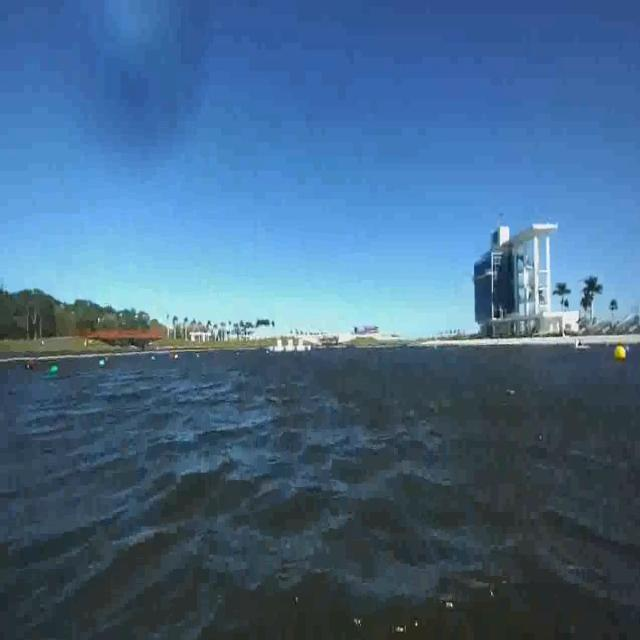yellow-buoy: (616, 344, 628, 362)
